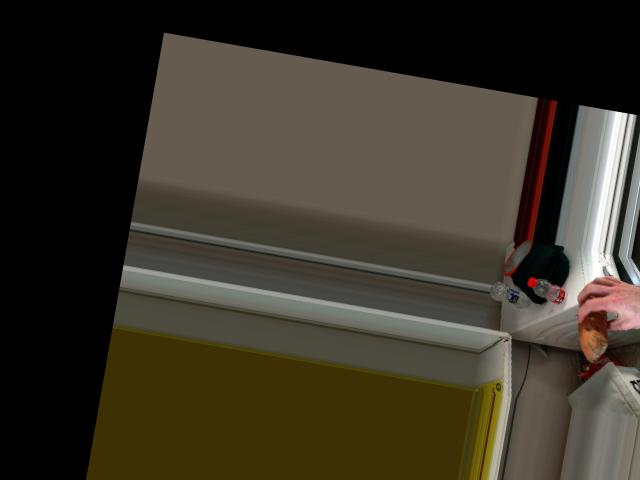sweet_potato: (578, 300, 607, 350)
